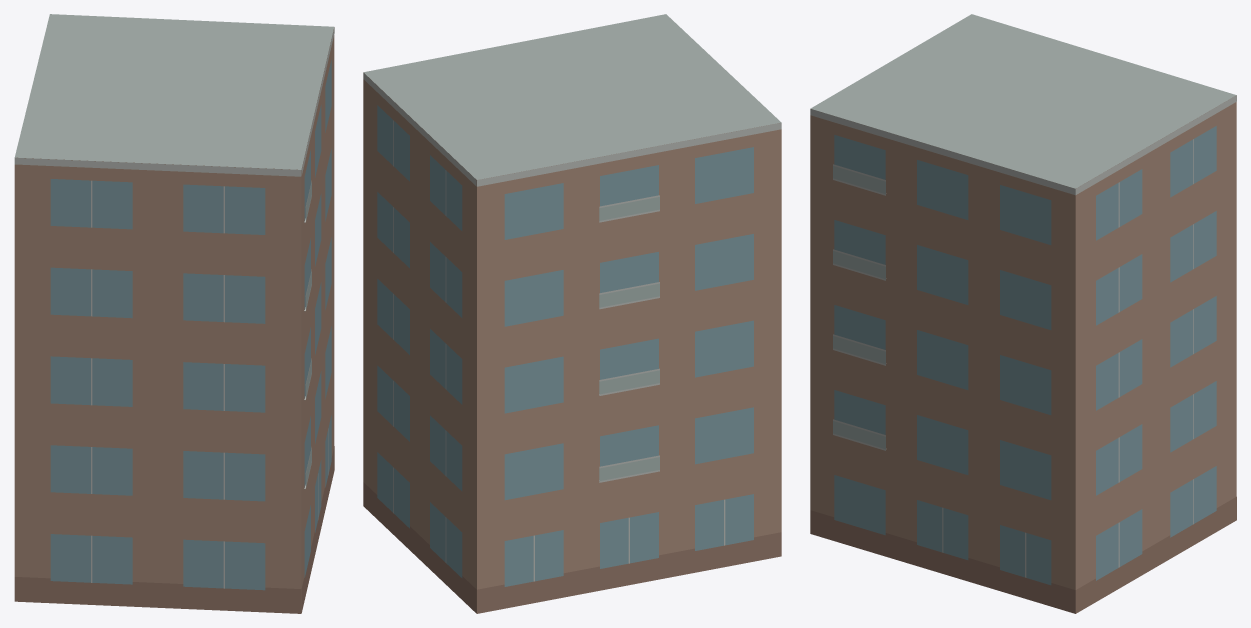
File: survey-upis-32839165.glb
The picture shows the model from 3 angles, left to right: view 1: azimuth 30°, elevation 25°; view 2: azimuth 150°, elevation 25°; view 3: azimuth 270°, elevation 25°; orthographic projection. The views are drawn at different scales.
Visible parts, largest first — view 1: survey-upis-32839165.tmp; view 2: survey-upis-32839165.tmp; view 3: survey-upis-32839165.tmp.
Part boxes in pixels (bbox=[...]): survey-upis-32839165.tmp: bbox=[14, 14, 334, 613]; survey-upis-32839165.tmp: bbox=[363, 14, 781, 613]; survey-upis-32839165.tmp: bbox=[810, 14, 1236, 613].
Size of the model in its own units: 13.94 by 15.8 by 14.37.
